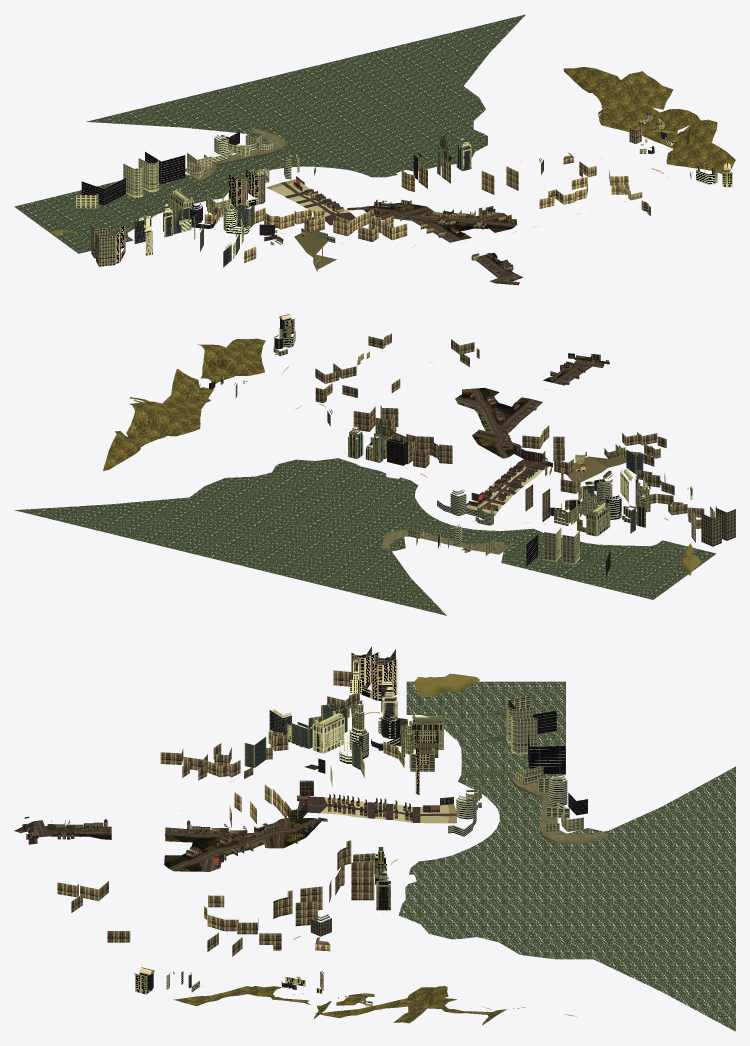
The model's file is track-B2_C3_V2_env.glb.
The picture shows the model from 3 angles, top to bottom: view 1: azimuth 30°, elevation 25°; view 2: azimuth 150°, elevation 25°; view 3: azimuth 270°, elevation 25°; orthographic projection. The views are drawn at different scales.
Visible parts, largest first — view 1: B2_C3_V2_env; view 2: B2_C3_V2_env; view 3: B2_C3_V2_env.
Part boxes in pixels (x1=…): B2_C3_V2_env: x1=14, y1=14, x2=735, y2=285; B2_C3_V2_env: x1=15, y1=314, x2=735, y2=615; B2_C3_V2_env: x1=14, y1=646, x2=735, y2=1031.
Bounding box in the file's own units: 3415 × 233 × 2880.
Materials: 22 (21 with a texture image).
